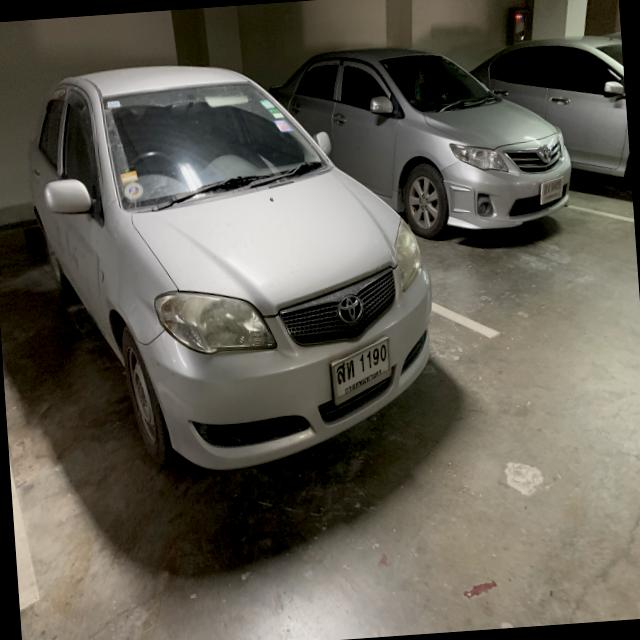license_plate: (326, 334, 395, 411)
